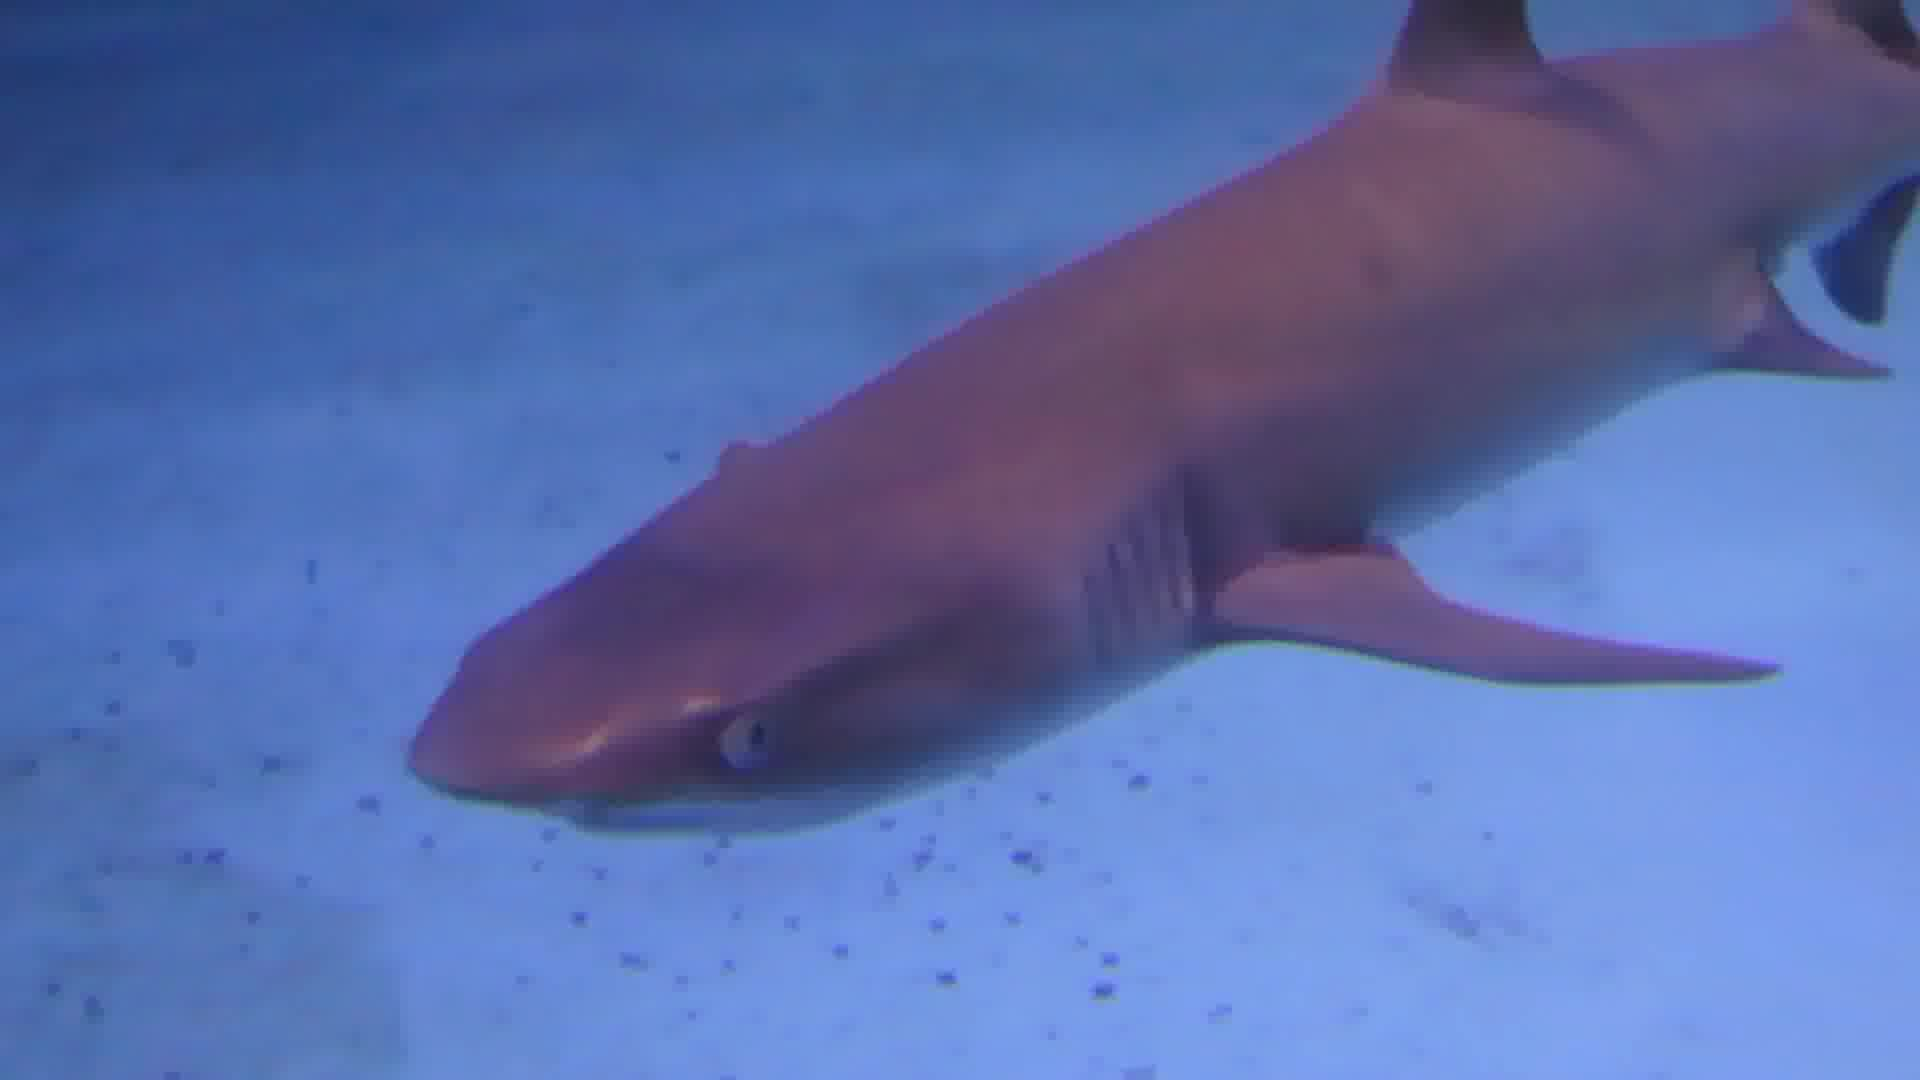Triaenodon obesus: (351, 1, 1920, 881)
